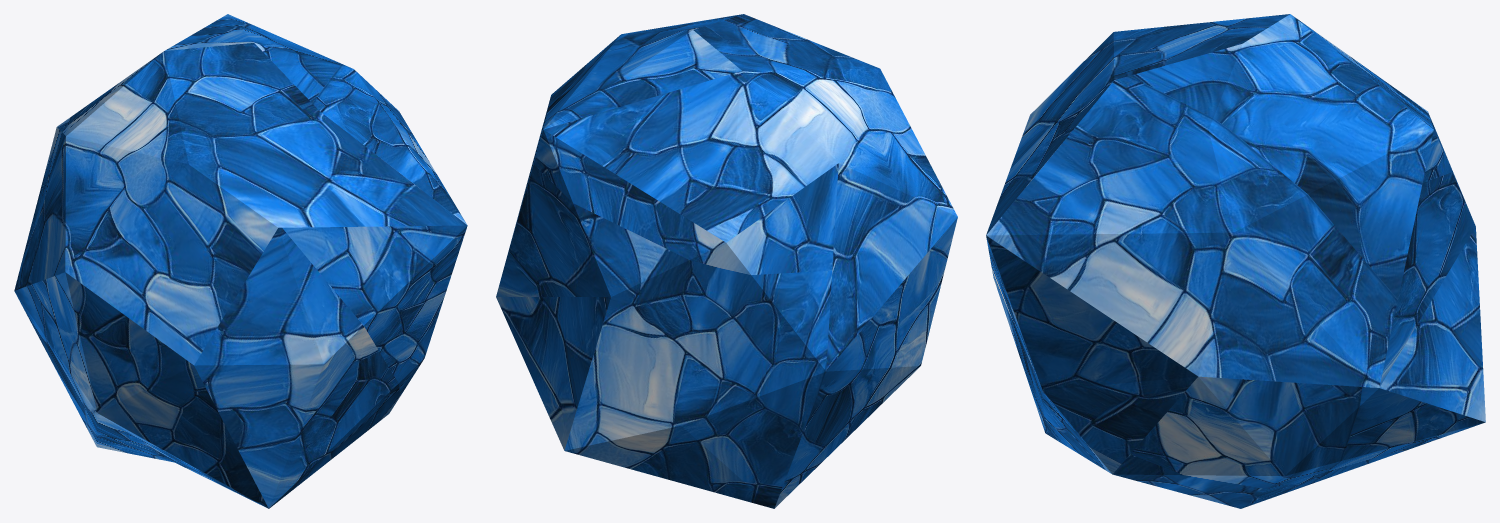
The model's file is star2BlueCompressed.glb.
The picture shows the model from 3 angles, left to right: view 1: azimuth 30°, elevation 25°; view 2: azimuth 150°, elevation 25°; view 3: azimuth 270°, elevation 25°; orthographic projection. The views are drawn at different scales.
Parts seen in each view (by area): view 1: star2; view 2: star2; view 3: star2.
Part boxes in pixels (bbox=[...]): star2: bbox=[14, 14, 467, 508]; star2: bbox=[496, 14, 957, 508]; star2: bbox=[986, 14, 1485, 508].
Bounding box in the file's own units: 1 × 1 × 1.
1 material, 1 textured.
